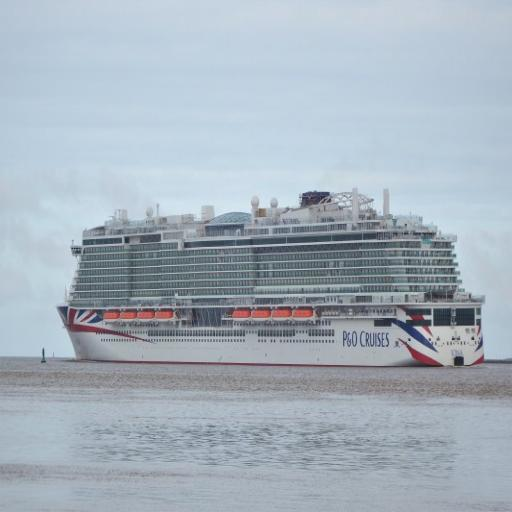cruises: (53, 184, 490, 376)
